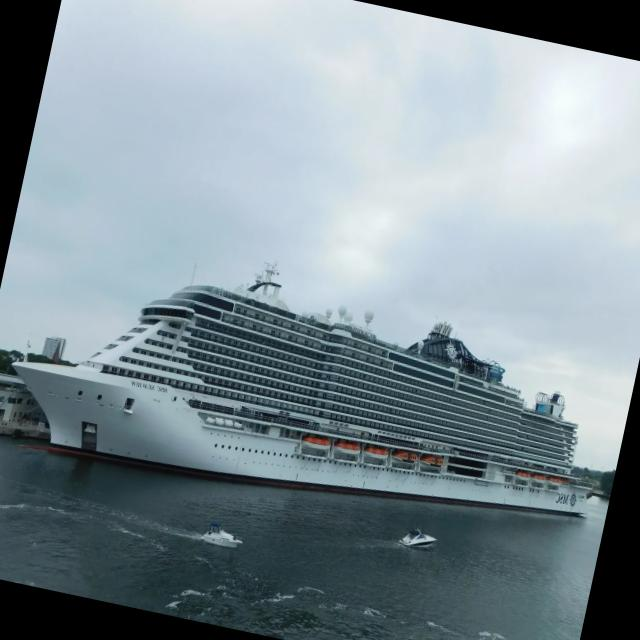Cruise: (14, 267, 591, 516)
